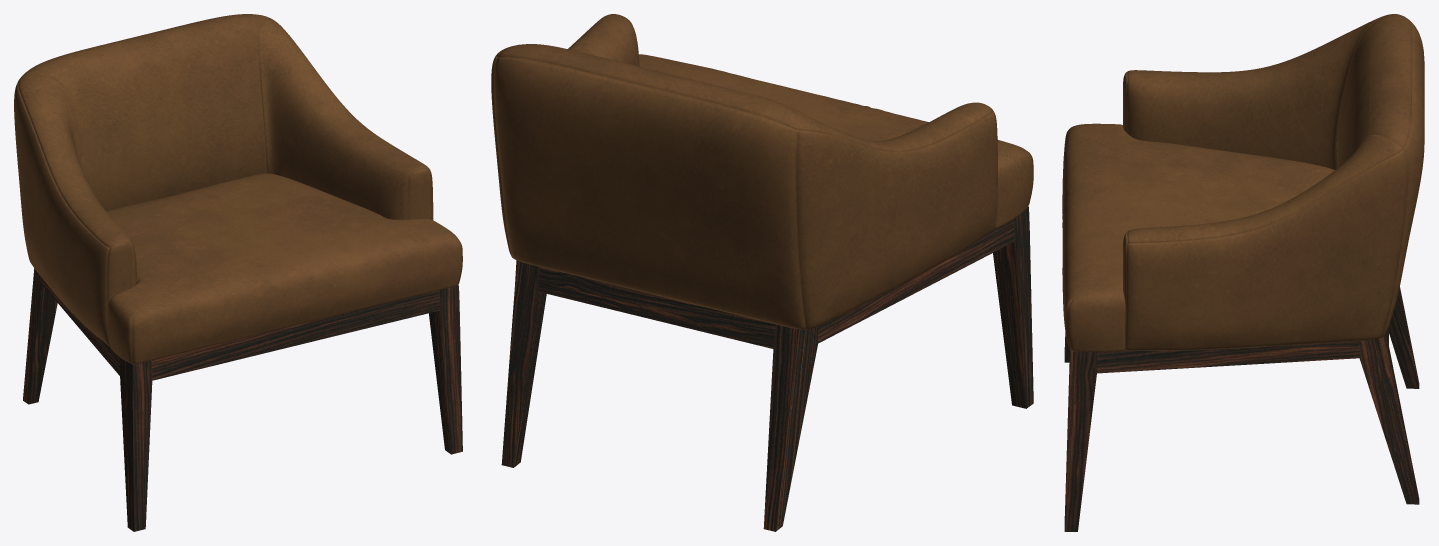
The model's file is Magnus-Chair-Larforma.glb.
3 views of the same model, side by side, from view 1: azimuth 30°, elevation 25°; view 2: azimuth 150°, elevation 25°; view 3: azimuth 270°, elevation 25° (orthographic). The views are drawn at different scales.
Parts seen in each view (by area): view 1: Magnus; view 2: Magnus; view 3: Magnus.
Boxes of the visible parts, box(x1,y1,x2,y2) form: Magnus: box(14, 14, 462, 531); Magnus: box(491, 14, 1033, 531); Magnus: box(1062, 14, 1424, 531).
Size of the model in its own units: 0.6918 by 0.6766 by 0.5916.
Materials: 3 (2 with a texture image).
